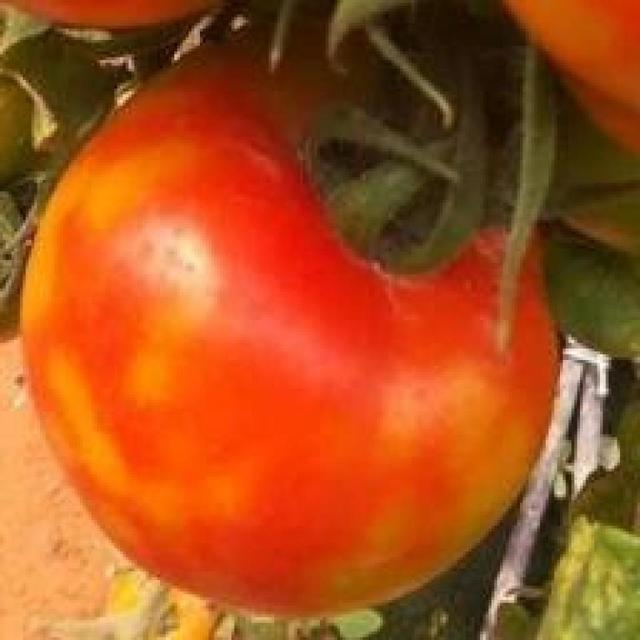Spotted wilt Virus Fruit: (13, 17, 373, 414)
